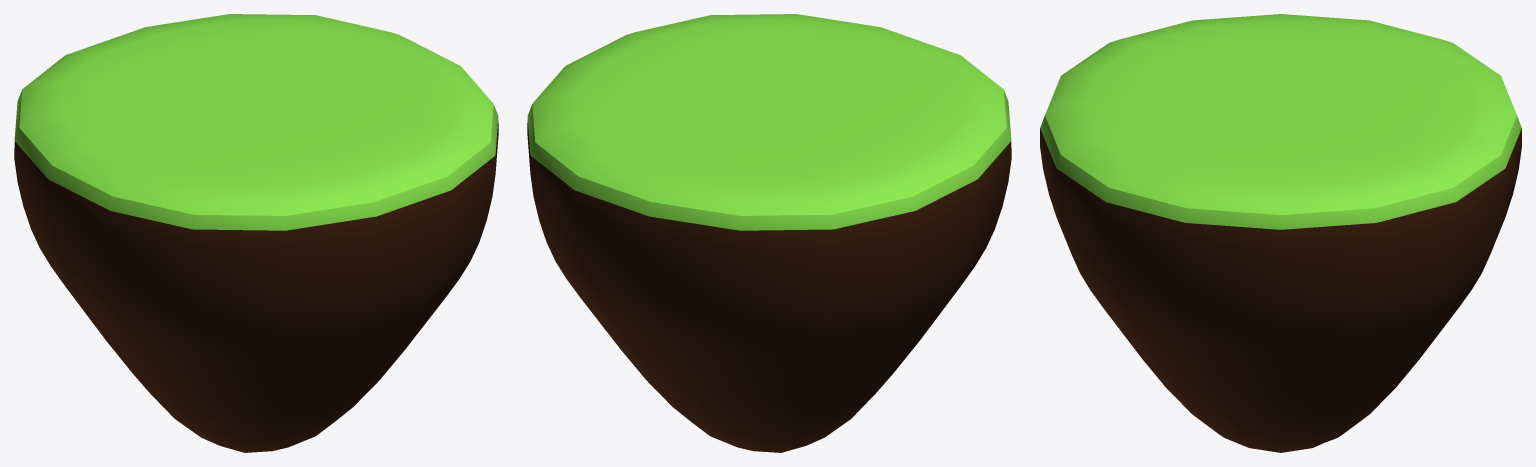
The model's file is platform_2.fbx.
3 views of the same model, side by side, from view 1: azimuth 30°, elevation 25°; view 2: azimuth 150°, elevation 25°; view 3: azimuth 270°, elevation 25° (orthographic).
Parts seen in each view (by area): view 1: Cube.003; view 2: Cube.003; view 3: Cube.003.
Part boxes in pixels (x1,y1,x2,y2): Cube.003: (14, 14, 498, 452); Cube.003: (527, 14, 1011, 452); Cube.003: (1040, 14, 1521, 452).
Size of the model in its own units: 484 by 484 by 380.
